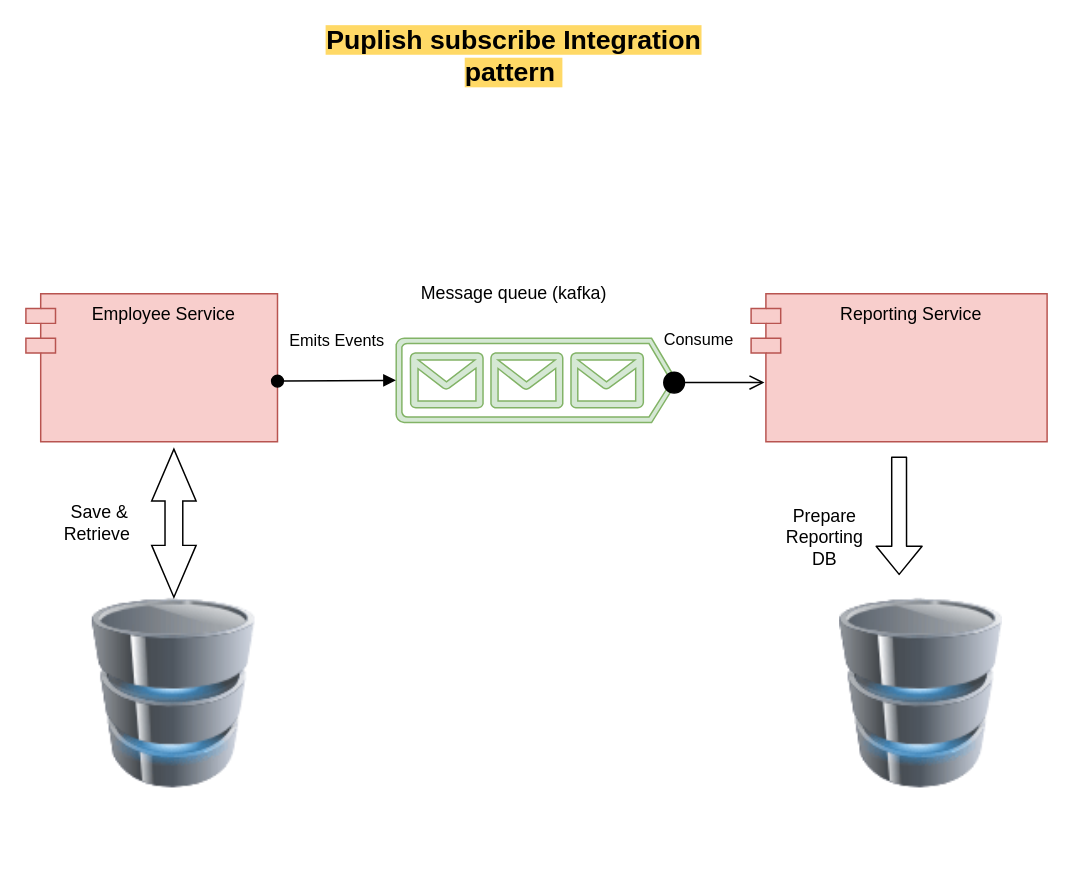
Some shapes in this 1073 by 873 pixel diagram are drawn without their labels. The shapes that lost their labels are listed below. From the top down, each one's centre as x and y in pixels, then its label:
At [173,692]: "Employee Data Store".
At [920,692]: "Reporting Data Store".
